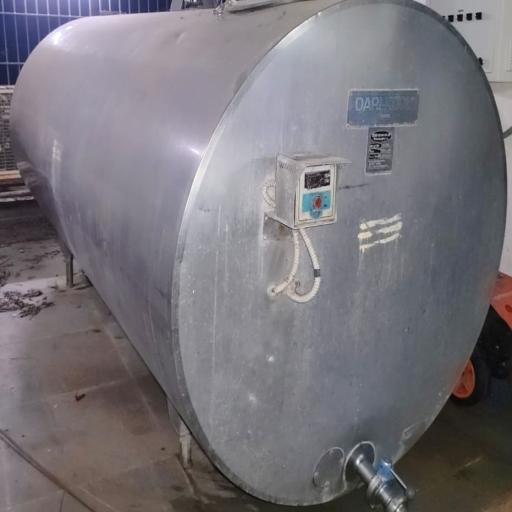silo: (8, 0, 508, 505)
